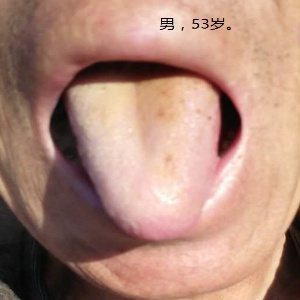st: (62, 98, 224, 235)
